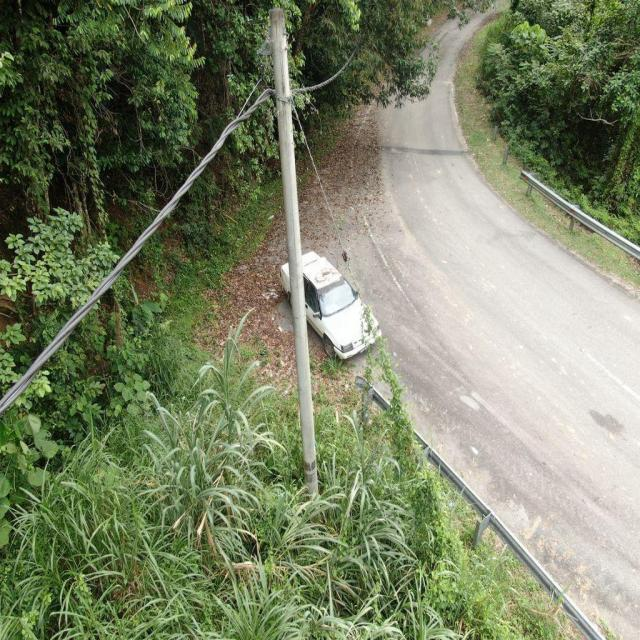critical vegetation: (348, 274, 488, 623)
